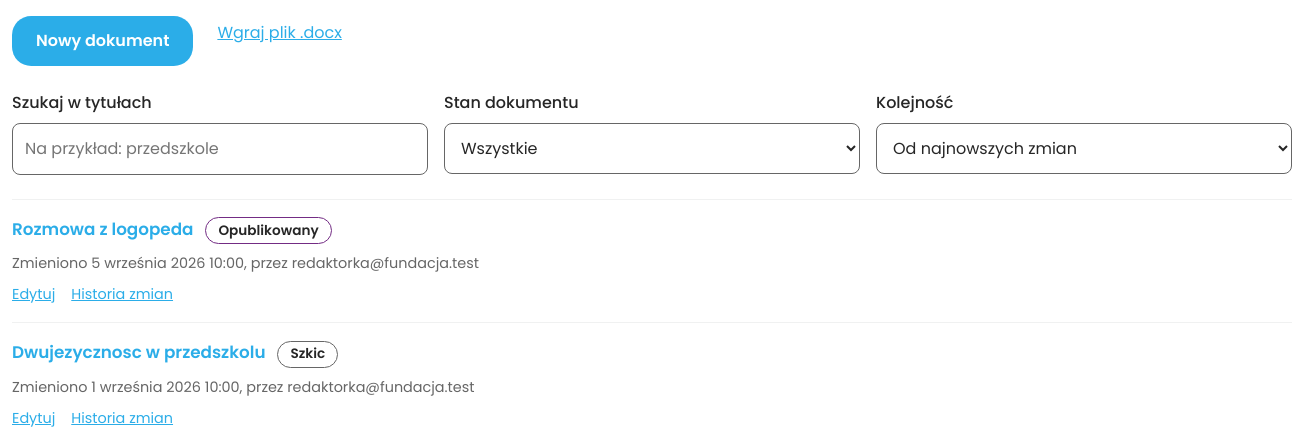
Test case: DocumentsList › narrows the list by status
Expected: the link "Dwujezycznosc w przedszkolu" is shown, 12,339 -> 266,366
Select "Opublikowany" in the dropdown labelled "Stan dokumentu" at x=652, y=149, box 444,123 -> 860,174
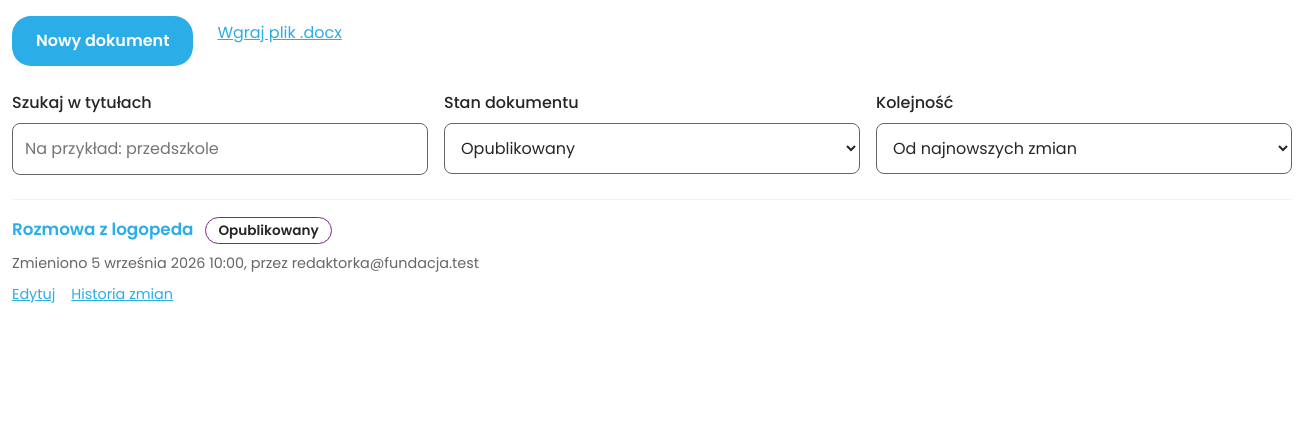
Expected: the link "Rozmowa z logopeda" is shown, 12,216 -> 194,243
Expected: the link "Dwujezycznosc w przedszkolu" is gone
